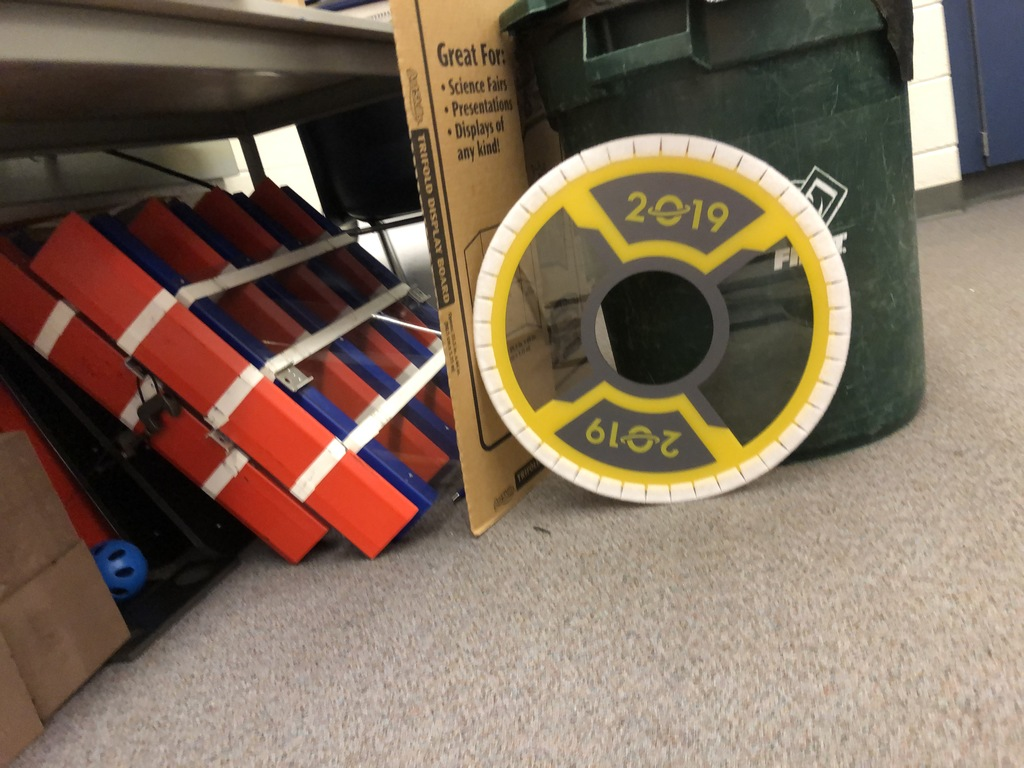hatch_panel: (466, 122, 858, 509)
